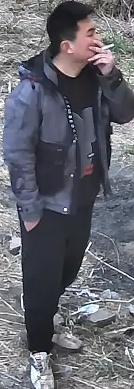smoking: (63, 25, 133, 136)
